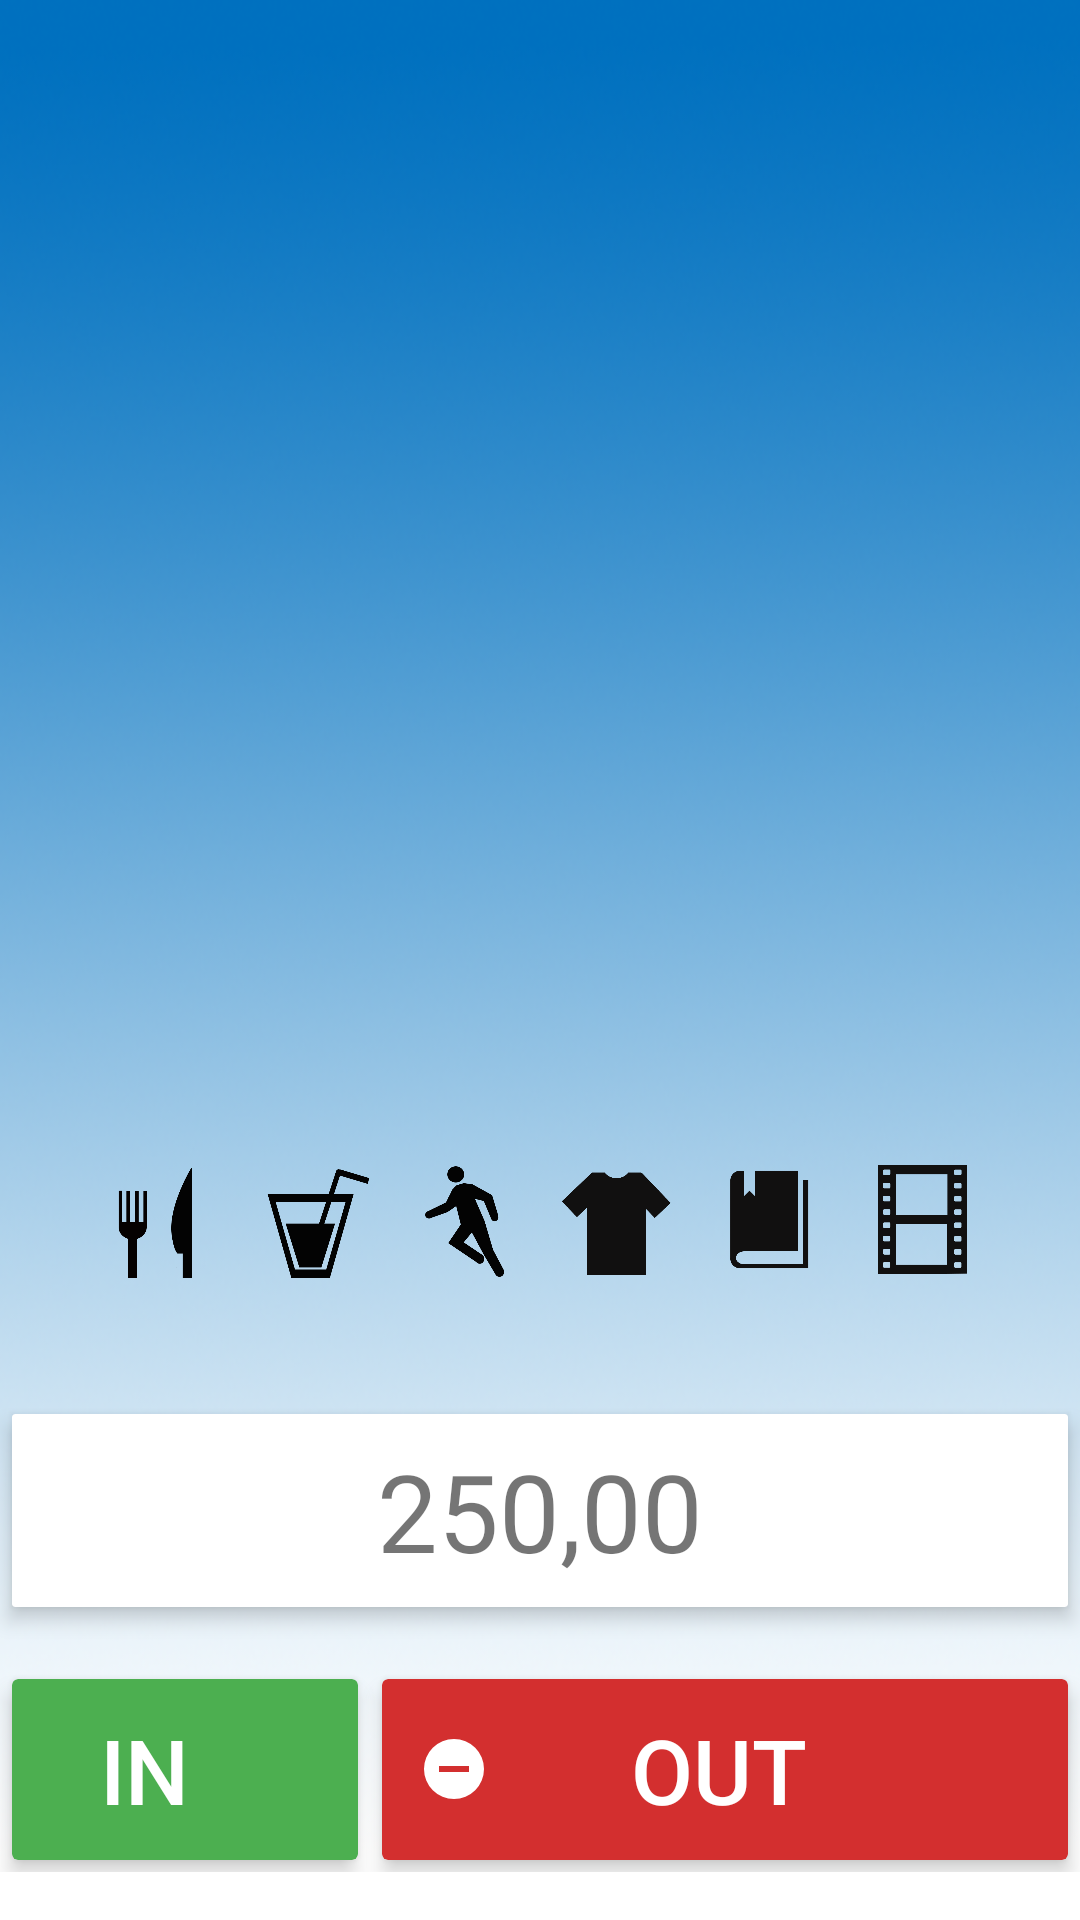

Icons on this 1080 x 1920 Android screen, each with its box as (x1, y1, x2, y2):
bookicon: (730, 1171, 808, 1268)
clothesicon: (562, 1172, 670, 1275)
drinkicon: (243, 1169, 378, 1287)
filmicon: (878, 1165, 967, 1274)
foodicon: (90, 1168, 225, 1287)
sporticon: (396, 1166, 531, 1287)
